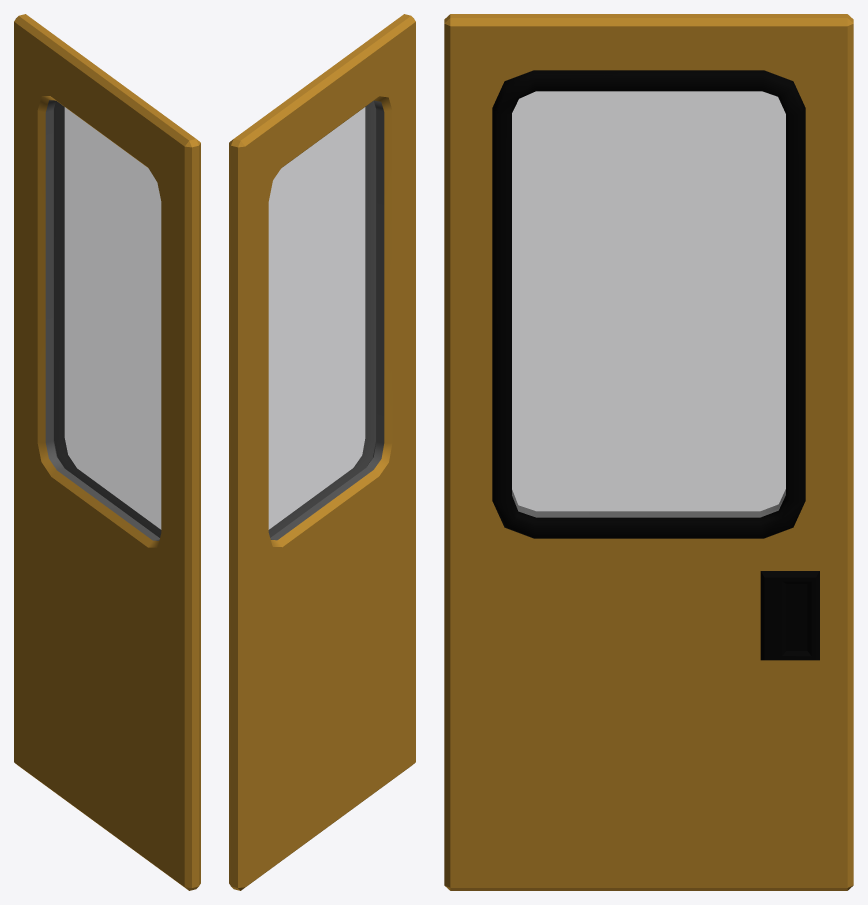
The model's file is MobileCrane_Door_03a_snaps005.fbx.
3 renders of one model, left to right at view 1: azimuth 30°, elevation 25°; view 2: azimuth 150°, elevation 25°; view 3: azimuth 270°, elevation 25°, orthographic. The views are drawn at different scales.
Visible parts, largest first — view 1: door_back1; view 2: door_back1; view 3: door_back1.
Boxes of the visible parts, x1,y1,x2,y2 form: door_back1: (14,14,200,890); door_back1: (229,14,415,890); door_back1: (444,14,853,890).
Bounding box in the file's own units: 4.72 × 131 × 55.73.
